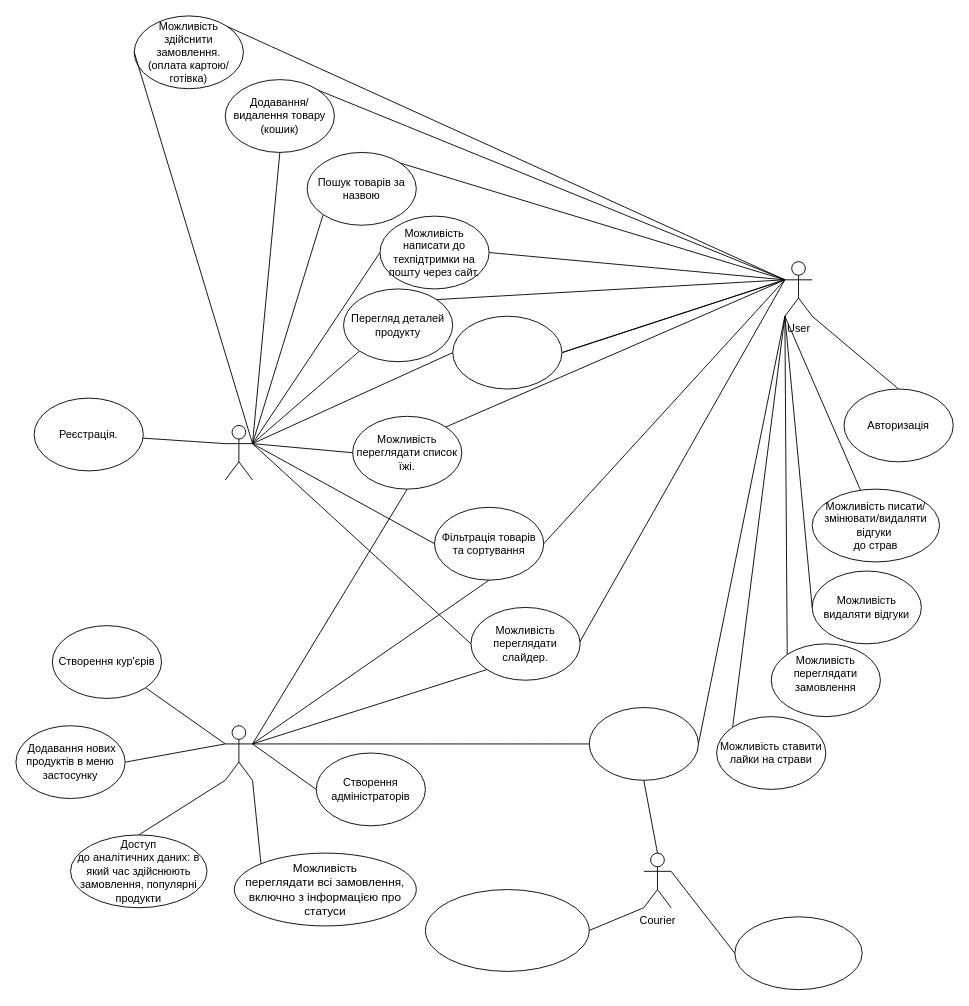
The diagram is 969 pixels wide and 1006 high, and some of its shapes have lost their labels. Here are the shapes that lost their labels. From the top down, the centre of each, then its label:
point (507, 352): Чат-помічник (АІ)
point (238, 452): Guest
point (238, 752): Admin
point (643, 743): Вихід з додатку
point (507, 930): Кур'єри мають можливість переглядати та приймати замовлення
point (798, 953): Кур'єри можуть переглядати історію своїх виконаних замовлень
